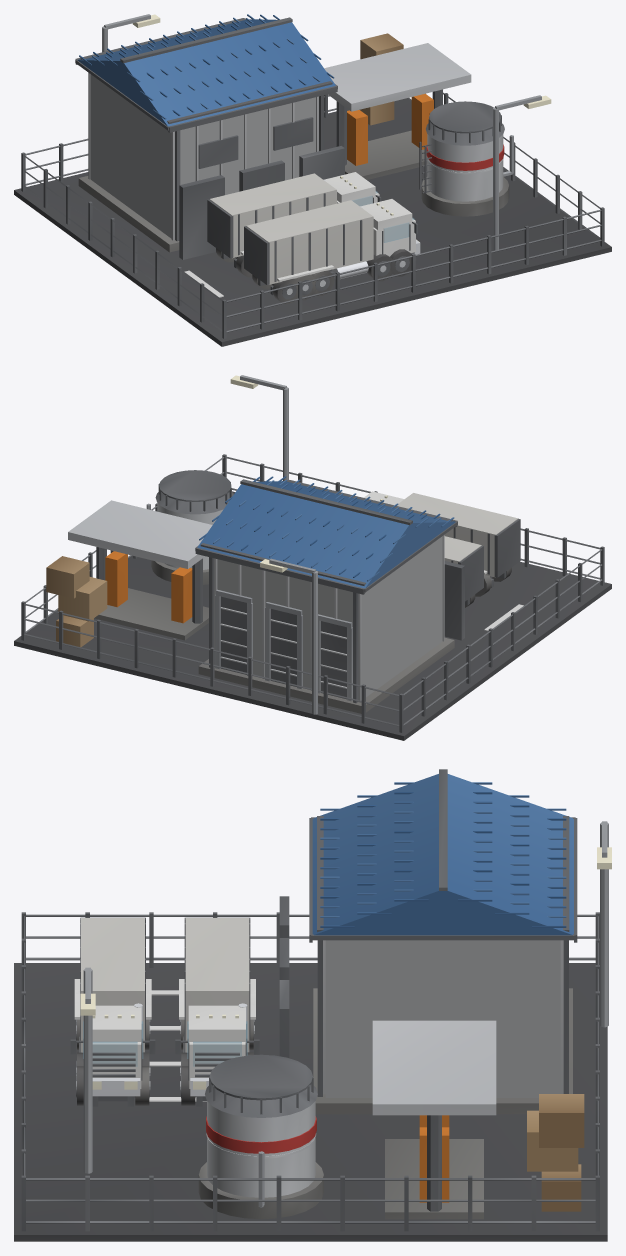
Rendered from Fleet_P2.fbx.
3 views of the same model, one above another, from view 1: azimuth 30°, elevation 25°; view 2: azimuth 150°, elevation 25°; view 3: azimuth 270°, elevation 25° (orthographic). The views are drawn at different scales.
Parts seen in each view (by area): view 1: Fleet.Garage, Fleet.Yard, Fleet.Parked1, Fleet.FuelIsland, Fleet.Fence, Fleet.FuelTank, Fleet.Parked0, Fleet.Doors, Fleet.Crates, Fleet.Lamp1, Fleet.Lamp0; view 2: Fleet.Garage, Fleet.Yard, Fleet.FuelIsland, Fleet.Fence, Fleet.Parked1, Fleet.FuelTank, Fleet.Crates, Fleet.Doors, Fleet.Parked0, Fleet.Lamp0, Fleet.Lamp1; view 3: Fleet.Garage, Fleet.Yard, Fleet.FuelIsland, Fleet.FuelTank, Fleet.Fence, Fleet.Parked1, Fleet.Parked0, Fleet.Crates, Fleet.Lamp1, Fleet.Lamp0, Fleet.Doors, Fleet.Bays.
Part boxes in pixels (bbox=[...]): Fleet.Garage: bbox=[75, 14, 337, 252]; Fleet.Yard: bbox=[14, 98, 611, 346]; Fleet.Parked1: bbox=[244, 199, 420, 303]; Fleet.FuelIsland: bbox=[324, 43, 471, 179]; Fleet.Fence: bbox=[21, 92, 604, 338]; Fleet.FuelTank: bbox=[419, 101, 513, 216]; Fleet.Parked0: bbox=[207, 172, 381, 277]; Fleet.Doors: bbox=[179, 146, 344, 259]; Fleet.Crates: bbox=[359, 33, 403, 125]; Fleet.Lamp1: bbox=[493, 95, 551, 250]; Fleet.Lamp0: bbox=[102, 14, 160, 52]; Fleet.Garage: bbox=[195, 476, 457, 713]; Fleet.Yard: bbox=[14, 491, 611, 740]; Fleet.FuelIsland: bbox=[68, 500, 212, 640]; Fleet.Fence: bbox=[21, 454, 604, 732]; Fleet.Parked1: bbox=[364, 491, 520, 596]; Fleet.FuelTank: bbox=[146, 470, 233, 584]; Fleet.Crates: bbox=[46, 556, 107, 647]; Fleet.Doors: bbox=[444, 561, 464, 640]; Fleet.Parked0: bbox=[444, 536, 483, 607]; Fleet.Lamp0: bbox=[260, 558, 317, 714]; Fleet.Lamp1: bbox=[230, 375, 288, 480]; Fleet.Garage: bbox=[309, 769, 577, 1114]; Fleet.Yard: bbox=[14, 963, 607, 1241]; Fleet.FuelIsland: bbox=[372, 1020, 496, 1219]; Fleet.FuelTank: bbox=[198, 1054, 323, 1219]; Fleet.Fence: bbox=[21, 912, 599, 1231]; Fleet.Parked1: bbox=[70, 917, 155, 1106]; Fleet.Parked0: bbox=[175, 917, 259, 1106]; Fleet.Crates: bbox=[527, 1094, 584, 1211]; Fleet.Lamp1: bbox=[80, 967, 95, 1173]; Fleet.Lamp0: bbox=[597, 821, 611, 1027]; Fleet.Doors: bbox=[279, 896, 289, 1057]; Fleet.Bays: bbox=[149, 990, 206, 1101].
Bounding box in the file's own units: 2600 × 1050 × 2418.
